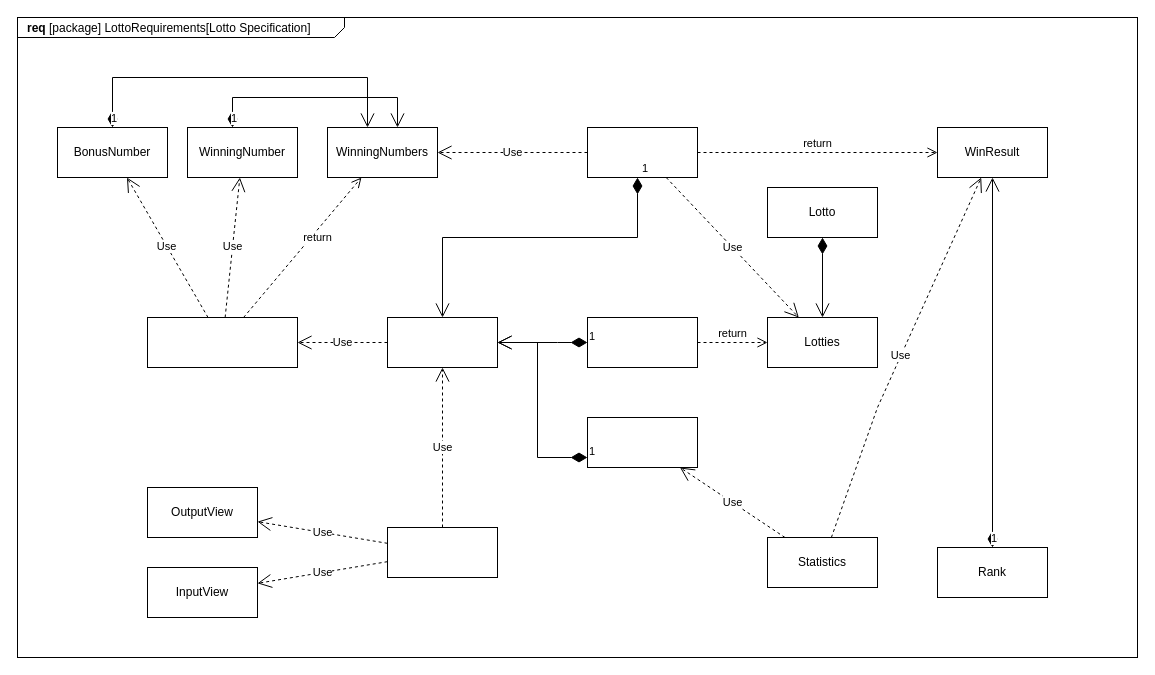
This 1155x675 diagram has some shape labels left out. The shapes that lost their labels are listed below. From the top down, each one's box as (x1, y1, x2, y2) in pixels, then its label:
(586, 126, 698, 178): ResultCalculator
(146, 316, 298, 368): WinningNumbersFactory
(386, 316, 498, 368): LottoMachine
(586, 316, 698, 368): LottoGenerator
(586, 416, 698, 468): Money
(386, 526, 498, 578): Application
